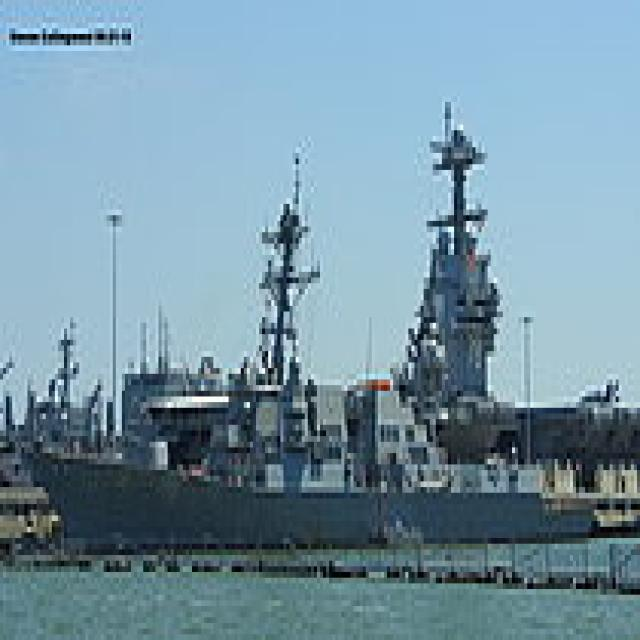Warship: (15, 153, 598, 544)
